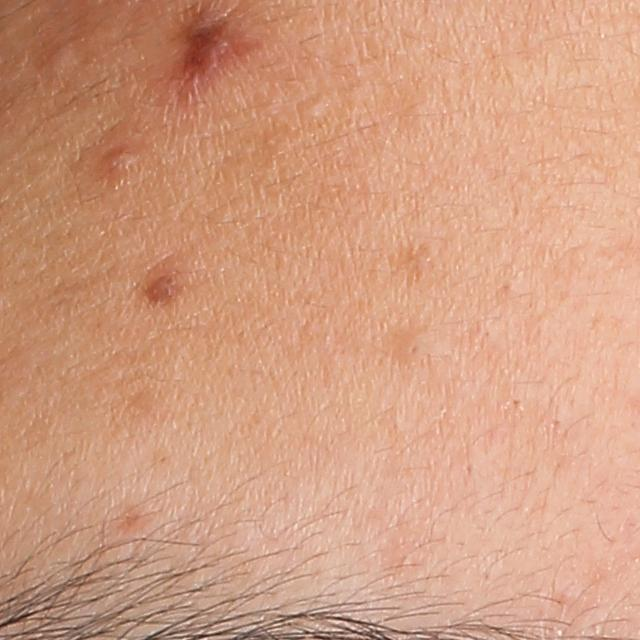comedo: (392, 326, 439, 367), (41, 38, 81, 82), (292, 91, 333, 127)
papule: (94, 135, 153, 181)
